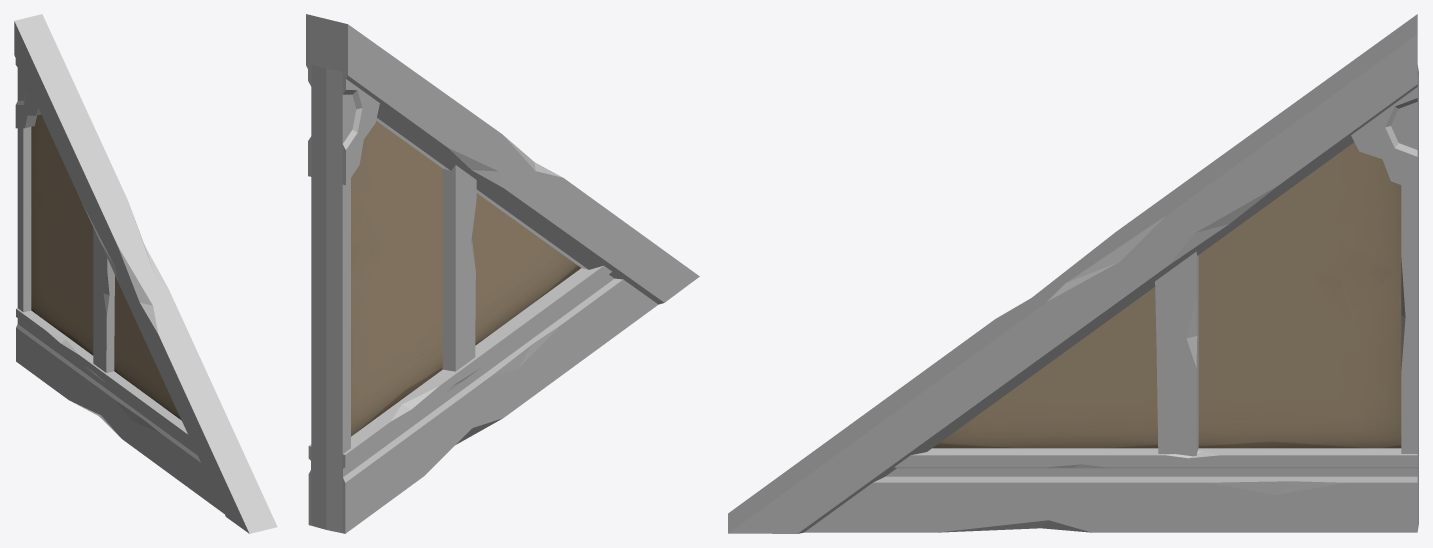
Rendered from SM_Bld_Roof_End_02_Alt_01.fbx.
3 views of the same model, side by side, from view 1: azimuth 30°, elevation 25°; view 2: azimuth 150°, elevation 25°; view 3: azimuth 270°, elevation 25° (orthographic). The views are drawn at different scales.
Parts seen in each view (by area): view 1: SM_Bld_Roof_End_02_Alt_01; view 2: SM_Bld_Roof_End_02_Alt_01; view 3: SM_Bld_Roof_End_02_Alt_01.
Boxes of the visible parts, x1=… form: SM_Bld_Roof_End_02_Alt_01: x1=14, y1=14, x2=277, y2=533; SM_Bld_Roof_End_02_Alt_01: x1=306, y1=14, x2=699, y2=533; SM_Bld_Roof_End_02_Alt_01: x1=728, y1=14, x2=1418, y2=533.
Size of the model in its own units: 17.21 by 200 by 251.
